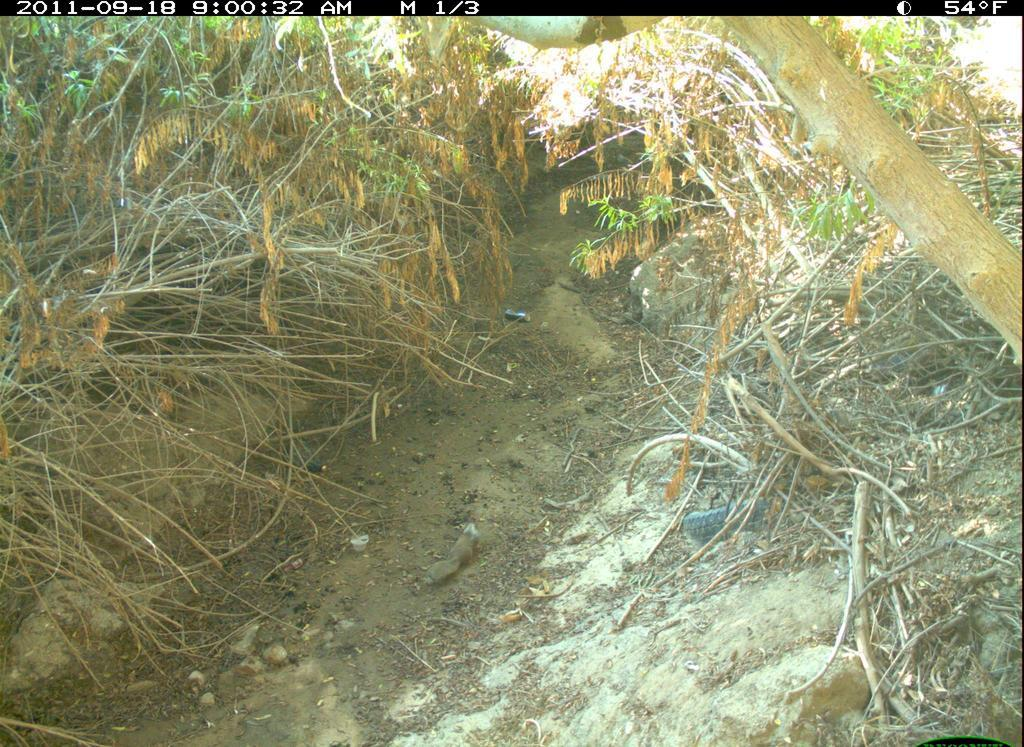squirrel: (417, 513, 486, 592)
